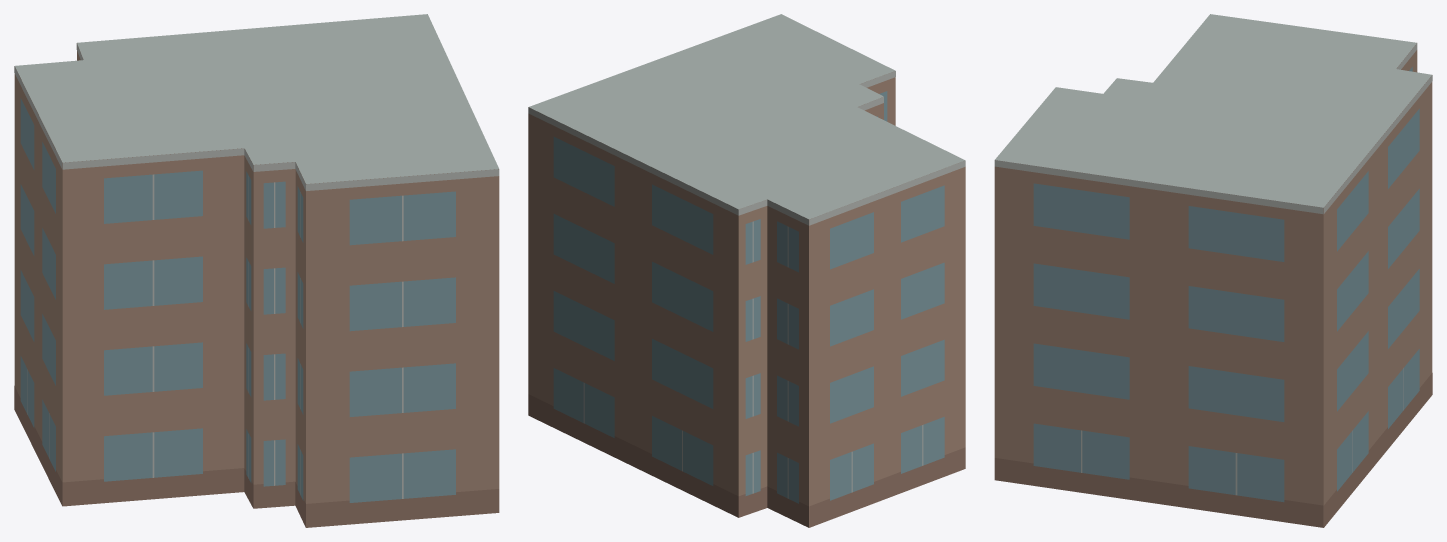
The model's file is survey-upis-32913230.glb.
The picture shows the model from 3 angles, left to right: view 1: azimuth 30°, elevation 25°; view 2: azimuth 150°, elevation 25°; view 3: azimuth 270°, elevation 25°; orthographic projection. The views are drawn at different scales.
Visible parts, largest first — view 1: survey-upis-32913230.tmp; view 2: survey-upis-32913230.tmp; view 3: survey-upis-32913230.tmp.
Boxes of the visible parts, <box> form: survey-upis-32913230.tmp: <box>14,14,499,527</box>; survey-upis-32913230.tmp: <box>528,14,965,527</box>; survey-upis-32913230.tmp: <box>994,14,1432,527</box>.
Size of the model in its own units: 15.45 by 11.9 by 14.76.
